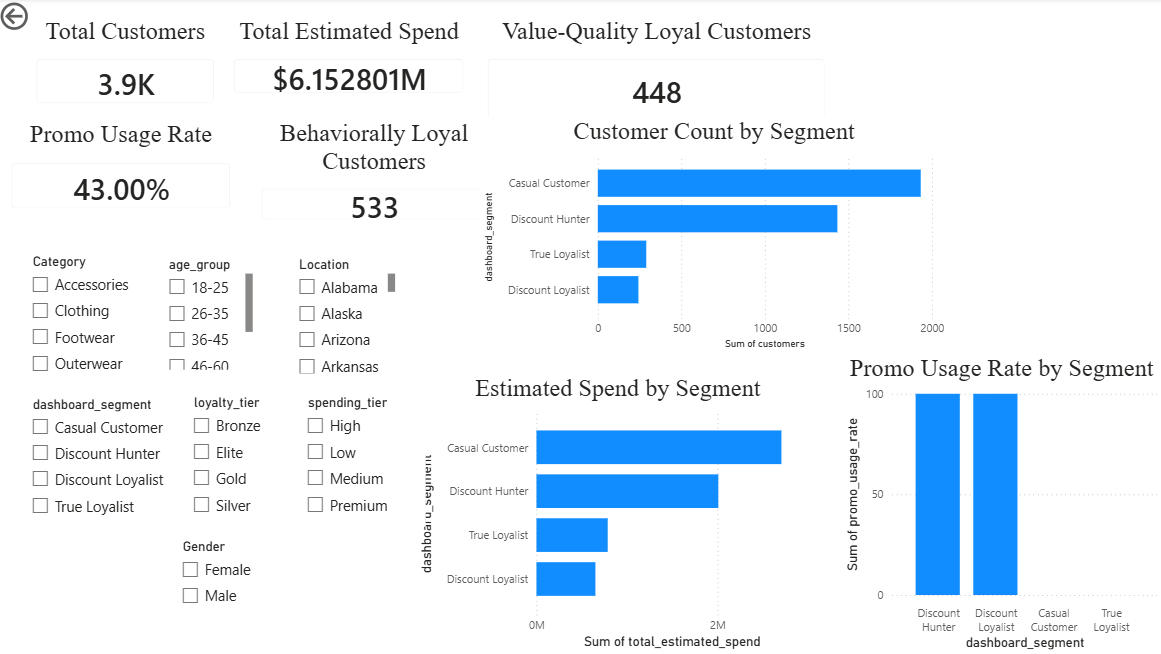

Layout of this report page (visuals, bound fields, positions):
{"tool":"powerbi","page":{"name":"Founder Overview","canvas":[1280,720],"ordinal":0},"visuals":[{"type":"cardVisual","title":"Total Customers","fields":{"Data":["CountNonNull(customer_master_powerbi.Customer ID)"]},"box":[27.4,20.6,229.2,112.5],"z":0},{"type":"cardVisual","title":"Total Estimated Spend","fields":{"Data":["Sum(customer_master_powerbi.estimated_total_spend)"]},"box":[244.3,20.6,286.8,101.5],"z":1000},{"type":"cardVisual","title":"Promo Usage Rate","fields":{"Data":["Avg(customer_master_powerbi.promo_used_flag)"]},"box":[0,134.5,274.4,113.9],"z":2000},{"type":"cardVisual","title":"Behaviorally Loyal Customers","fields":{"Data":["Sum(customer_master_powerbi.behavioral_loyalty_flag)"]},"box":[274.4,133.1,281.3,127.6],"z":3000},{"type":"cardVisual","title":"Value-Quality Loyal Customers","fields":{"Data":["Sum(customer_master_powerbi.value_quality_loyalty_flag)"]},"box":[522.8,20.6,404.8,129],"z":4000},{"type":"clusteredBarChart","title":"Customer Count by Segment","fields":{"Category":["segment_summary.dashboard_segment"],"Y":["Sum(segment_summary.customers)"]},"box":[531,130.4,514.6,260.7],"z":5000},{"type":"clusteredBarChart","title":"Estimated Spend by Segment","fields":{"Category":["segment_summary.dashboard_segment"],"Y":["Sum(segment_summary.total_estimated_spend)"]},"box":[459.3,413.5,446,307.2],"z":6000},{"type":"slicer","fields":{"Values":["customer_master_powerbi.Category"]},"box":[27.4,275.8,149.6,167.4],"z":7000},{"type":"slicer","fields":{"Values":["customer_master_powerbi.Location"]},"box":[319.7,278.6,123.5,138.6],"z":8000},{"type":"actionButton","box":[0,0,100,40],"z":9000},{"type":"slicer","fields":{"Values":["customer_master_powerbi.Gender"]},"box":[192.1,588.7,155.1,131.7],"z":10000},{"type":"slicer","fields":{"Values":["customer_master_powerbi.spending_tier"]},"box":[329.3,430.9,142.7,149.6],"z":11000},{"type":"slicer","fields":{"Values":["customer_master_powerbi.loyalty_tier"]},"box":[204.5,430.9,115.3,150.9],"z":12000},{"type":"slicer","fields":{"Values":["customer_master_powerbi.dashboard_segment"]},"box":[27.4,432.2,164.7,149.6],"z":13000},{"type":"slicer","fields":{"Values":["customer_master_powerbi.age_group"]},"box":[177,278.6,109.8,134.5],"z":14000},{"type":"clusteredColumnChart","title":"Promo Usage Rate by Segment","fields":{"Y":["Sum(segment_summary.promo_usage_rate)"],"Category":["segment_summary.dashboard_segment"]},"box":[927.4,391.3,352.9,329.3],"z":15000}]}

Visuals, with their boxes in screenshot pixels (x1, y1, x2, y2), scaled from the page's 1280x720 canvas onto the 1161x654 screenshot:
"Total Customers" cardVisual: bbox=[25, 19, 233, 121]
"Total Estimated Spend" cardVisual: bbox=[222, 19, 482, 111]
"Promo Usage Rate" cardVisual: bbox=[0, 122, 249, 226]
"Behaviorally Loyal Customers" cardVisual: bbox=[249, 121, 504, 237]
"Value-Quality Loyal Customers" cardVisual: bbox=[474, 19, 841, 136]
"Customer Count by Segment" clusteredBarChart: bbox=[482, 118, 948, 355]
"Estimated Spend by Segment" clusteredBarChart: bbox=[417, 376, 821, 653]
slicer - customer_master_powerbi.Category: bbox=[25, 251, 161, 403]
slicer - customer_master_powerbi.Location: bbox=[290, 253, 402, 379]
actionButton: bbox=[0, 0, 91, 36]
slicer - customer_master_powerbi.Gender: bbox=[174, 535, 315, 653]
slicer - customer_master_powerbi.spending_tier: bbox=[299, 391, 428, 527]
slicer - customer_master_powerbi.loyalty_tier: bbox=[185, 391, 290, 528]
slicer - customer_master_powerbi.dashboard_segment: bbox=[25, 393, 174, 528]
slicer - customer_master_powerbi.age_group: bbox=[161, 253, 260, 375]
"Promo Usage Rate by Segment" clusteredColumnChart: bbox=[841, 355, 1160, 653]
